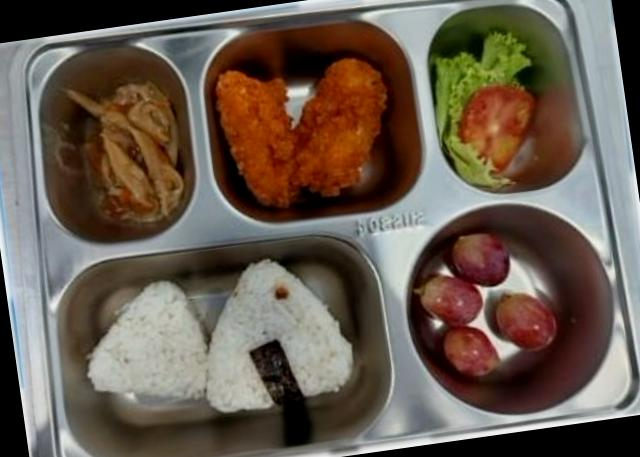ayam: (64, 83, 184, 223)
buah: (415, 233, 509, 378)
nasi: (87, 260, 353, 413)
sayur: (434, 31, 535, 188)
tempe: (216, 64, 383, 207)
